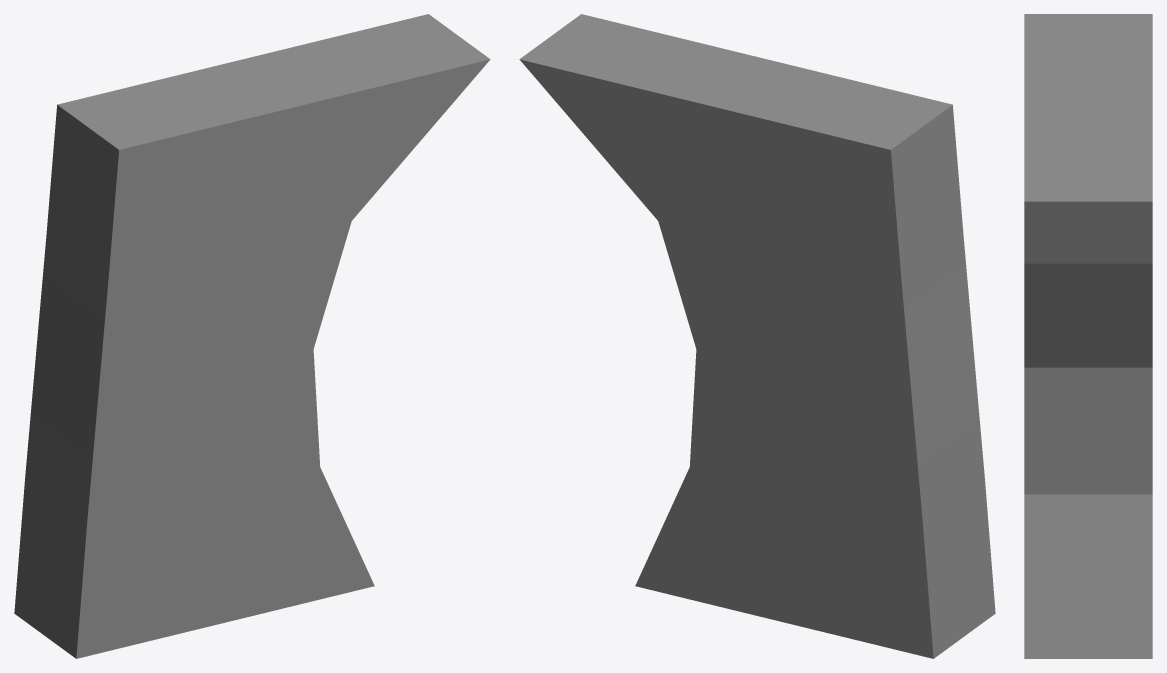
Rendered from Pistol2_03_3.fbx.
3 views of the same model, side by side, from view 1: azimuth 30°, elevation 25°; view 2: azimuth 150°, elevation 25°; view 3: azimuth 270°, elevation 25° (orthographic). The views are drawn at different scales.
Visible parts, largest first — view 1: Pistol2_03_3; view 2: Pistol2_03_3; view 3: Pistol2_03_3.
Part boxes in pixels (x1,y1,x2,y2): Pistol2_03_3: (14,14,490,658); Pistol2_03_3: (519,14,995,658); Pistol2_03_3: (1024,14,1152,658).
Bounding box in the file's own units: 0.0274 × 0.0315 × 0.0071.
